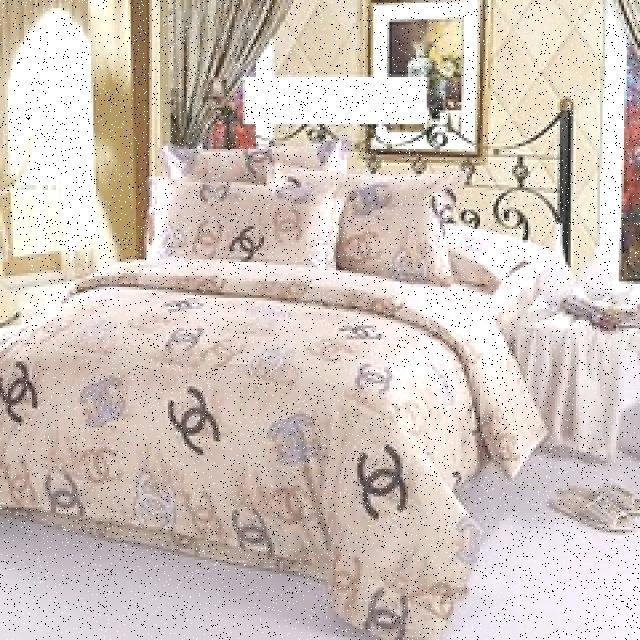bed: (55, 108, 568, 568)
